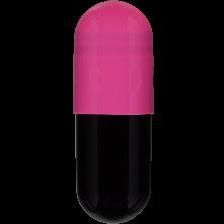51991-772: (0, 0, 224, 224)
